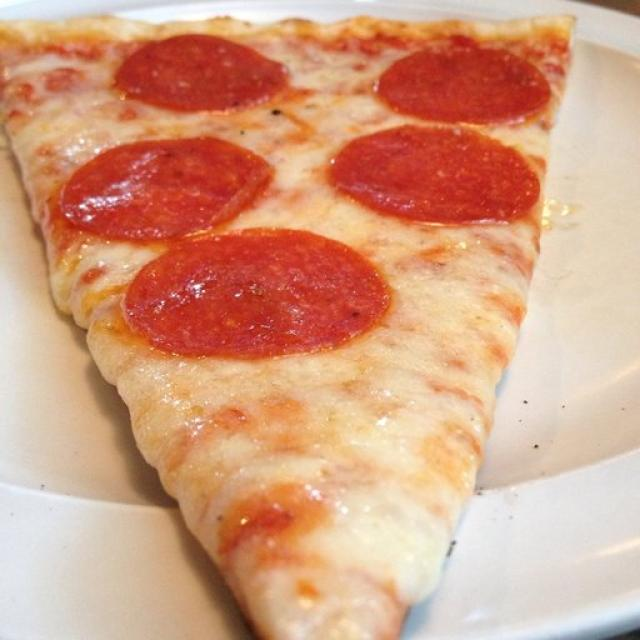Pepperoni: (138, 231, 377, 352), (333, 131, 537, 226), (66, 140, 265, 226), (382, 43, 542, 121), (117, 36, 288, 108)
Pizza: (0, 15, 574, 640)
